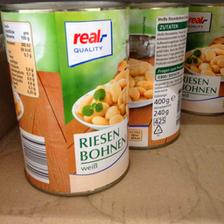Bohnen: (2, 2, 130, 198), (134, 2, 186, 154), (188, 1, 224, 119)
